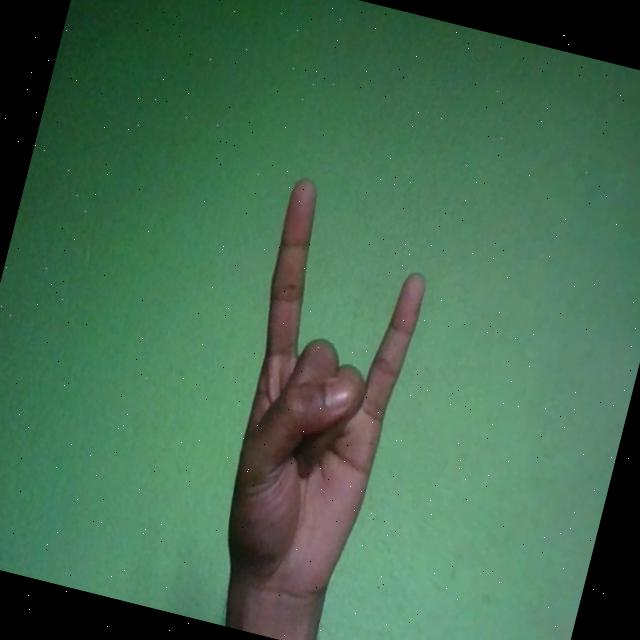open Plam: (192, 174, 444, 622)
